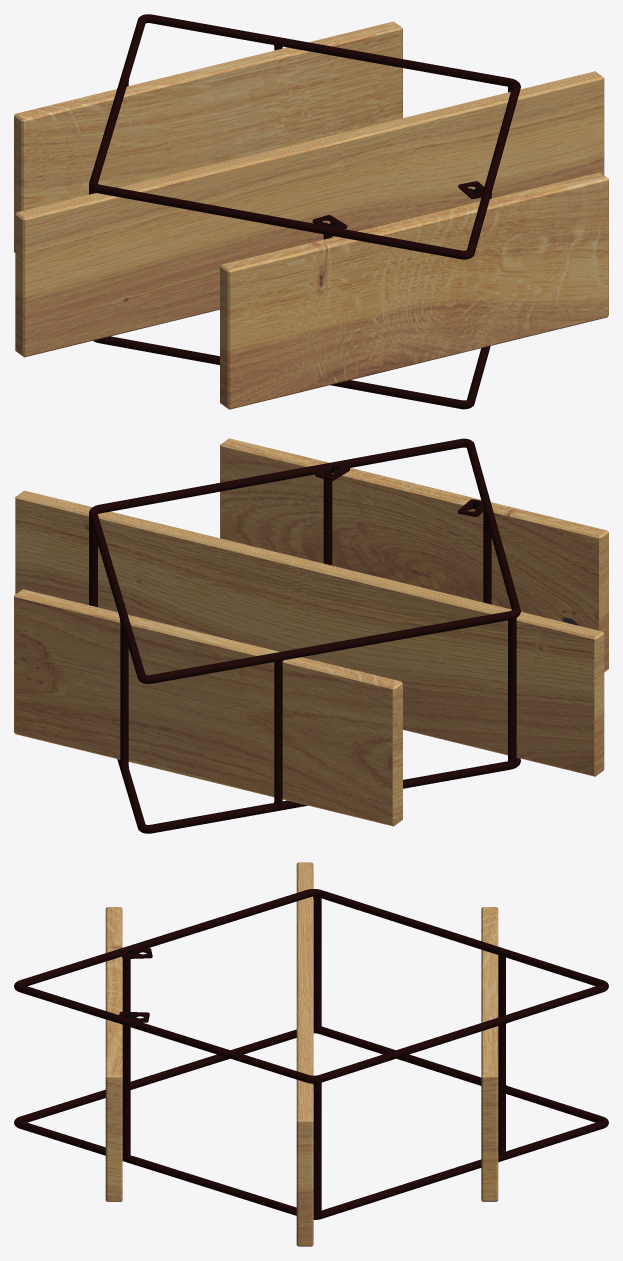
File: polka.obj
3 renders of one model, top to bottom at view 1: azimuth 30°, elevation 25°; view 2: azimuth 150°, elevation 25°; view 3: azimuth 270°, elevation 25°, orthographic. The views are drawn at different scales.
Parts seen in each view (by area): view 1: Urban_Outfitters_Diamond_Cross_Planes_1_mat1; view 2: Urban_Outfitters_Diamond_Cross_Planes_1_mat1; view 3: Urban_Outfitters_Diamond_Cross_Planes_1_mat1.
Boxes of the visible parts, <box> form: Urban_Outfitters_Diamond_Cross_Planes_1_mat1: <box>14,14,608,409</box>; Urban_Outfitters_Diamond_Cross_Planes_1_mat1: <box>14,438,608,833</box>; Urban_Outfitters_Diamond_Cross_Planes_1_mat1: <box>14,862,608,1246</box>.
Size of the model in its own units: 61 by 15.8 by 59.32.
3 materials, 1 textured.
